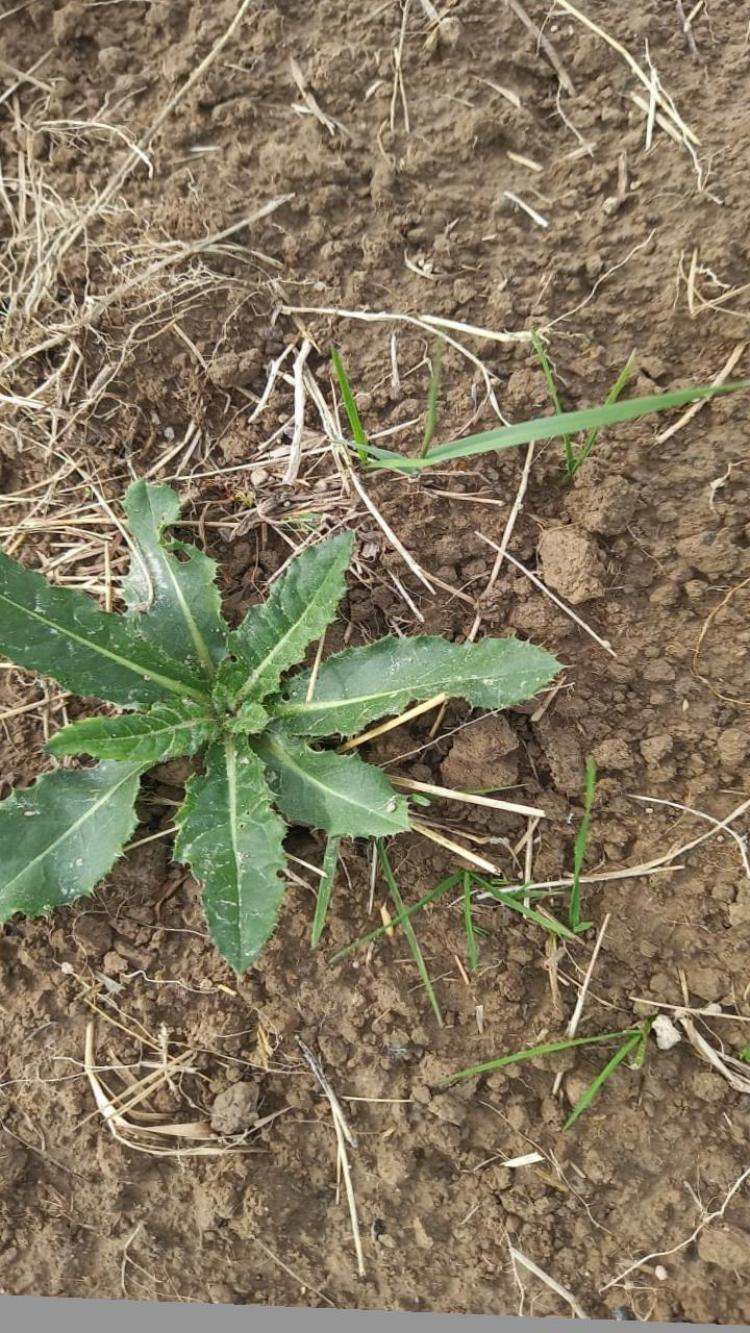osot: (0, 464, 573, 975)
